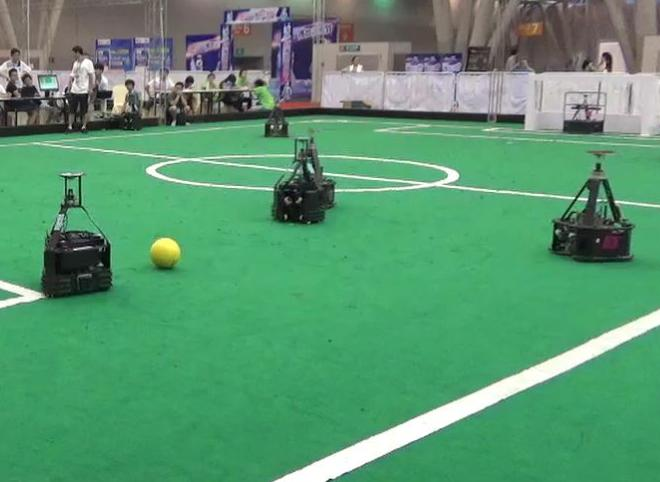robot: (35, 165, 116, 299), (547, 146, 636, 261), (267, 132, 330, 225)
